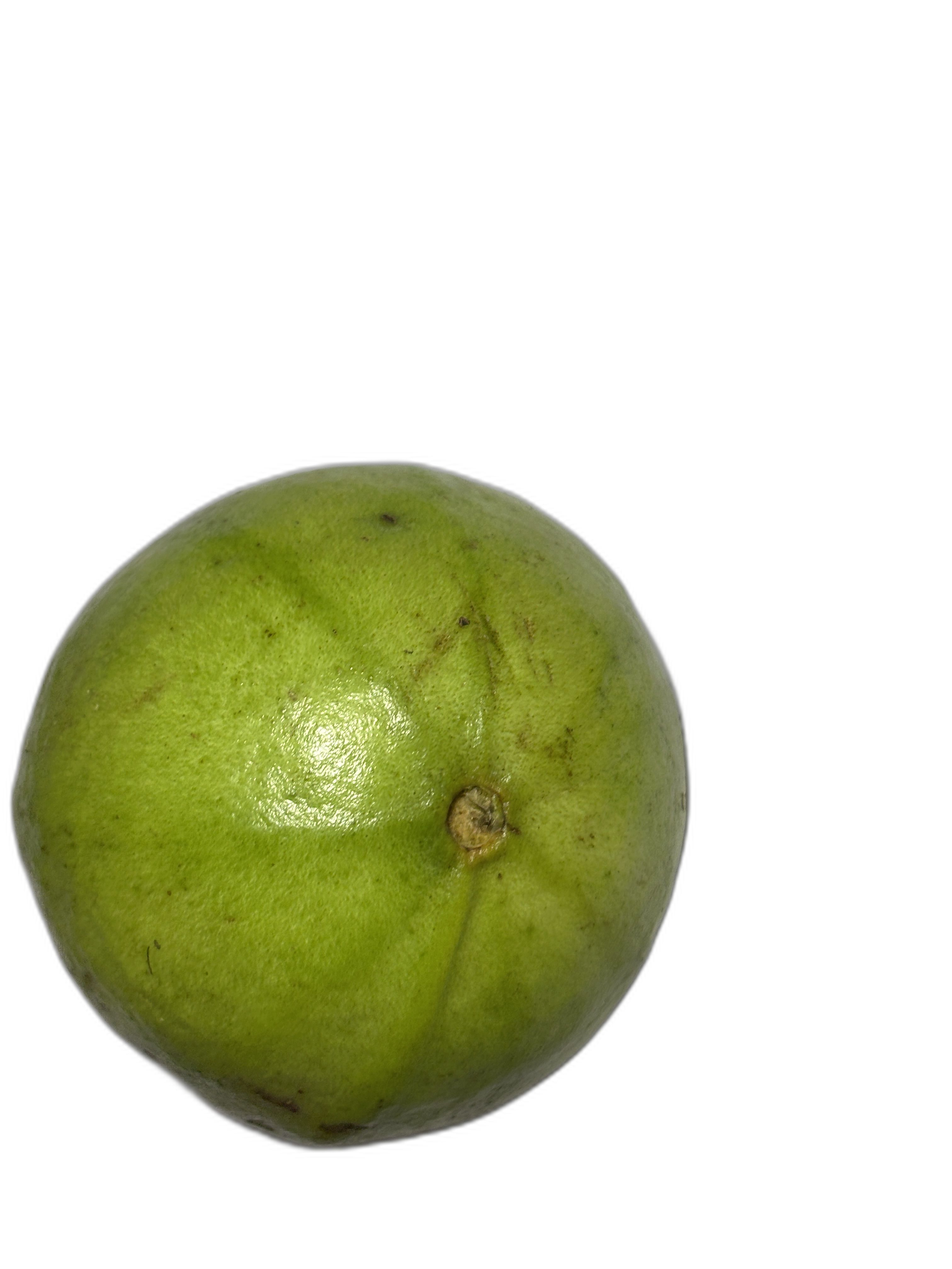guava: (0, 131, 836, 1069)
